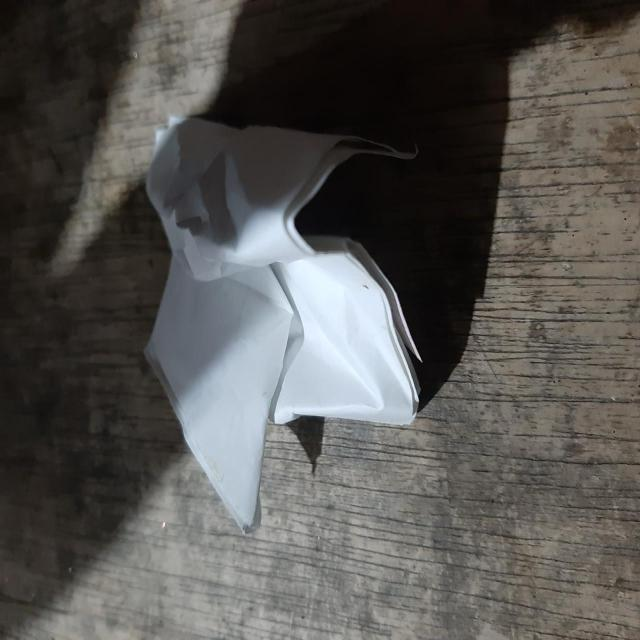KertasBekas: (142, 112, 424, 535)
